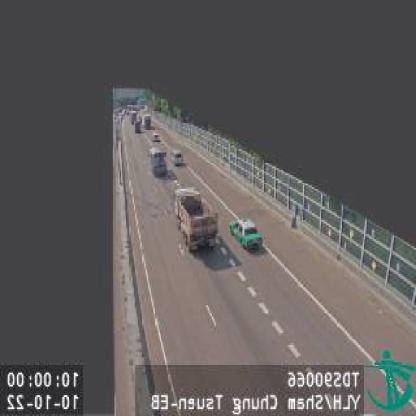Car: (228, 218, 264, 250), (172, 150, 185, 165), (151, 133, 160, 142)
Truck: (176, 186, 219, 250), (152, 151, 166, 176)
